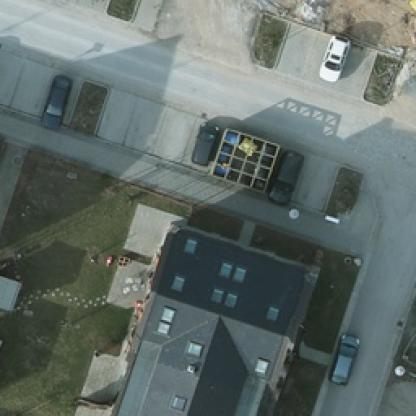car: (264, 150, 302, 206), (35, 72, 72, 128), (328, 332, 356, 386), (315, 35, 348, 80), (191, 120, 220, 164)
